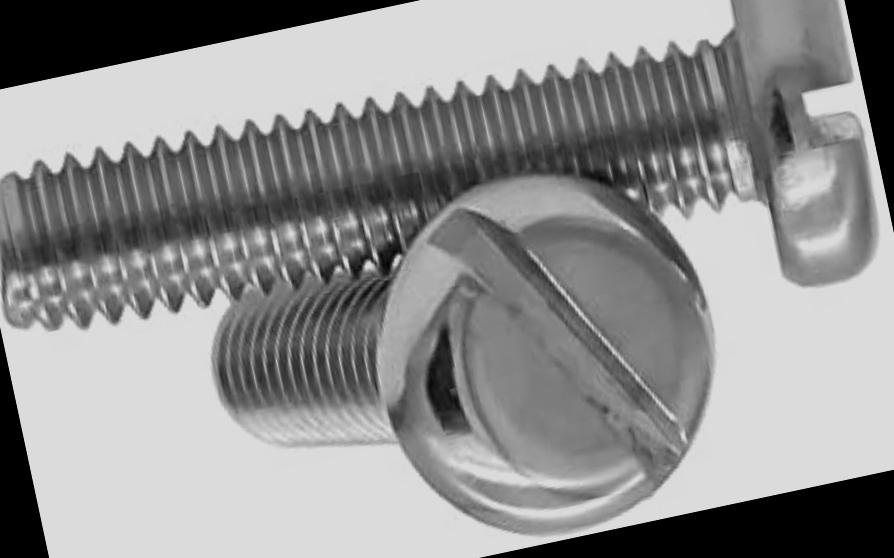screw: (341, 136, 756, 558)
